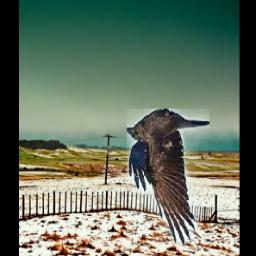Crow: (127, 110, 209, 245)
